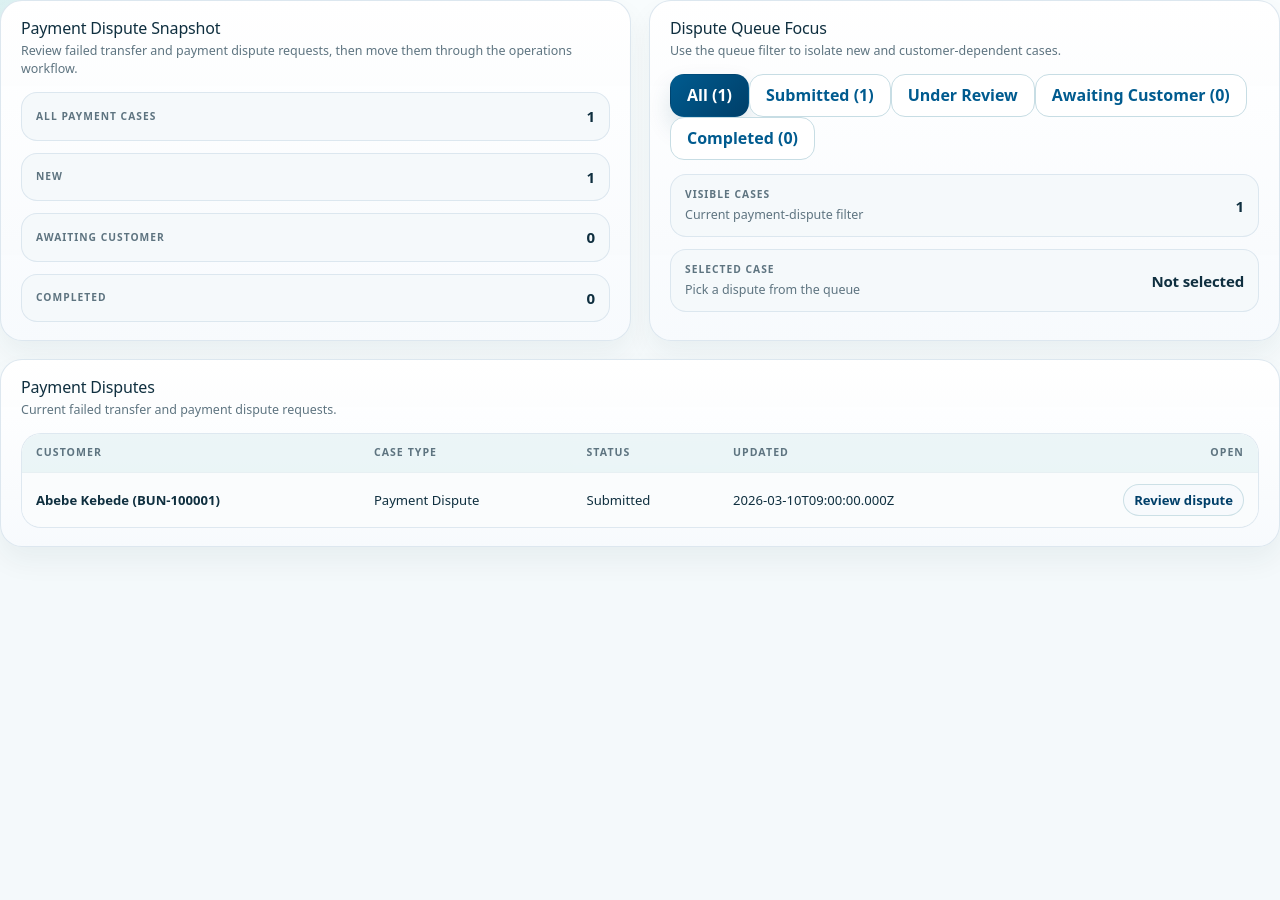
Test case: PaymentDisputesPage › filters to payment-related service requests and updates a dispute status
expect the heading "Payment Disputes" is shown: met, box [21, 376, 155, 398]
expect the text "Abebe Kebede (BUN-100001)" is shown: met, box [22, 473, 360, 527]
Click the button "Review dispute". click: (1184, 500)
box: [1123, 484, 1244, 516]
(page scrolled)
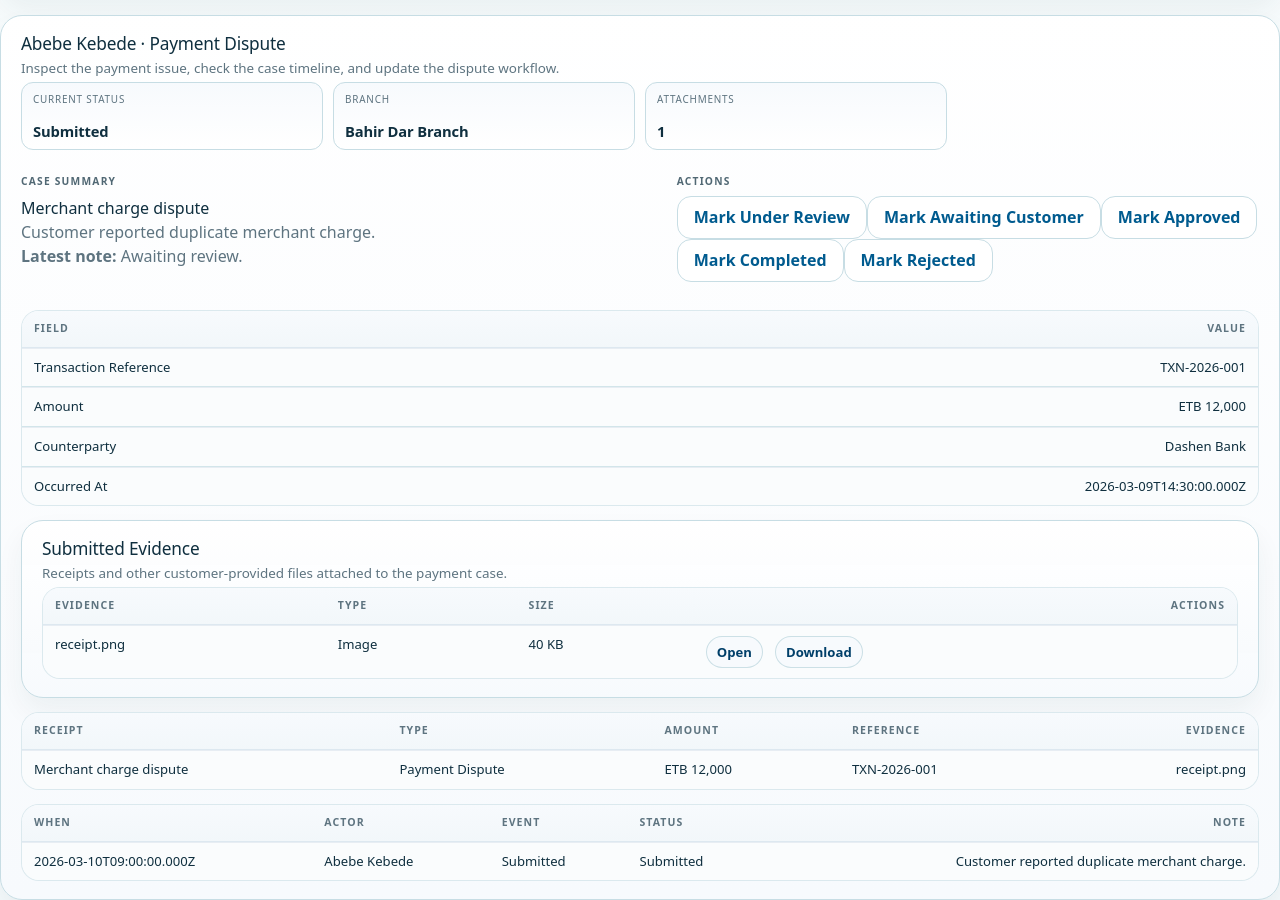
expect the heading "Merchant charge dispute" is shown: met, box [21, 197, 209, 219]
expect the text "Latest note:" is shown: met, box [21, 245, 116, 267]
expect the text "Awaiting review." is shown: met, box [121, 245, 243, 267]
Click the button "Open". click: (734, 652)
box: [706, 636, 763, 668]
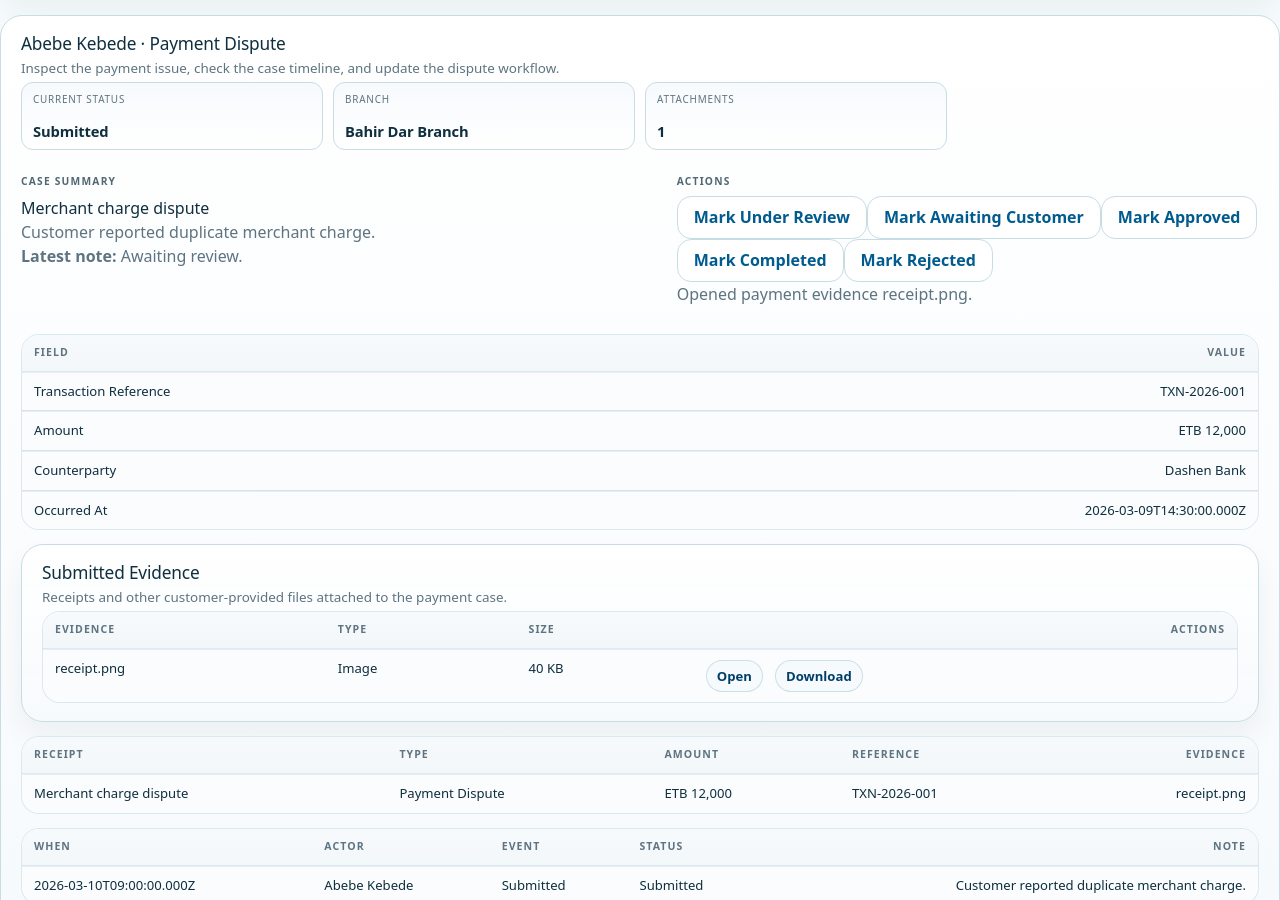
expect the text "Opened payment evidence receipt.png." is shown: met, box [677, 283, 972, 305]
Click the button "Mark Completed". click: (760, 260)
box: [677, 239, 844, 282]
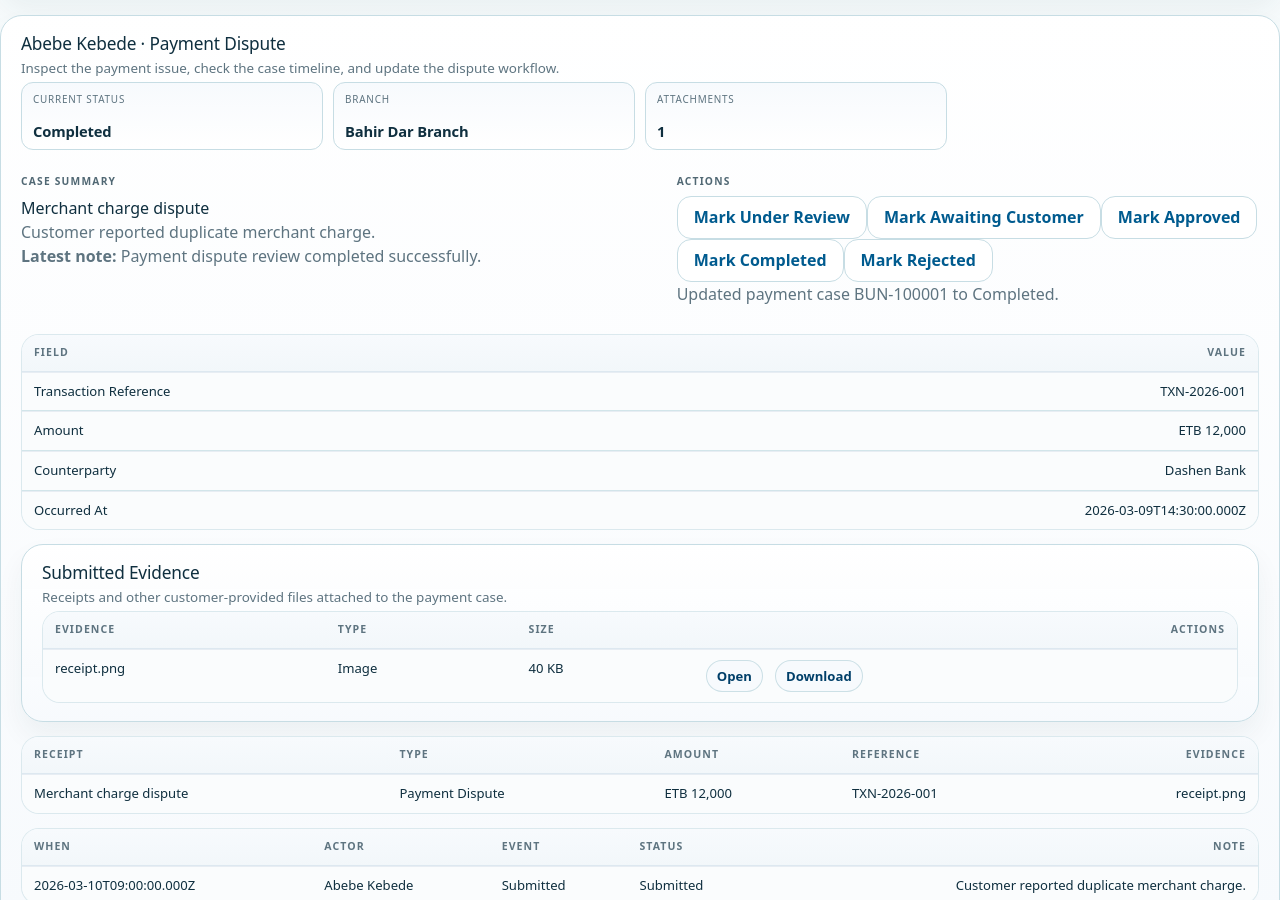
expect the text "Updated payment case BUN-100001 to Completed." is shown: met, box [677, 283, 1059, 305]
